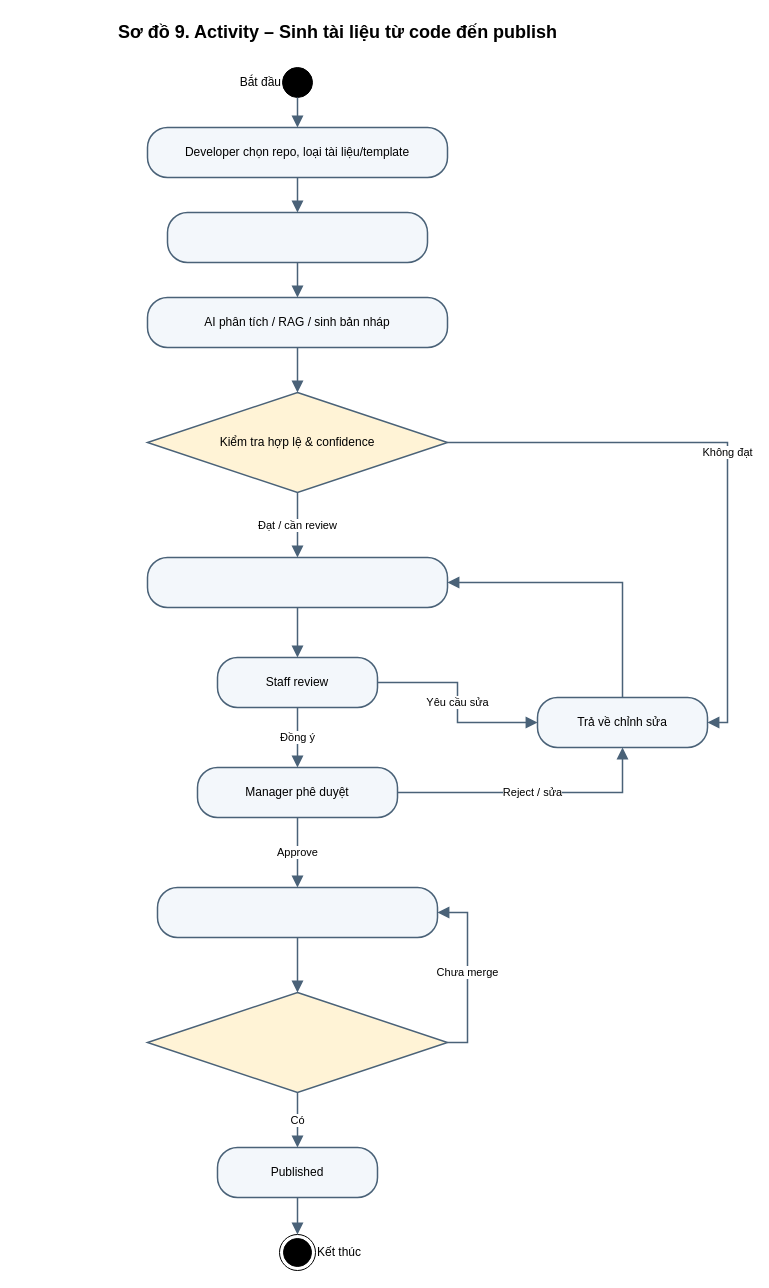
The diagram is 769 pixels wide and 1288 high, and some of its shapes have lost their labels. Each missing label, with the centre of its shape:
"Developer xem/chỉnh sửa bản nháp" belongs at (297,582).
"PR merge / commit thành công?" belongs at (297,1042).
"Tạo PR tài liệu hoặc commit" belongs at (297,912).
"Đọc code + tài liệu liên quan" belongs at (297,237).
